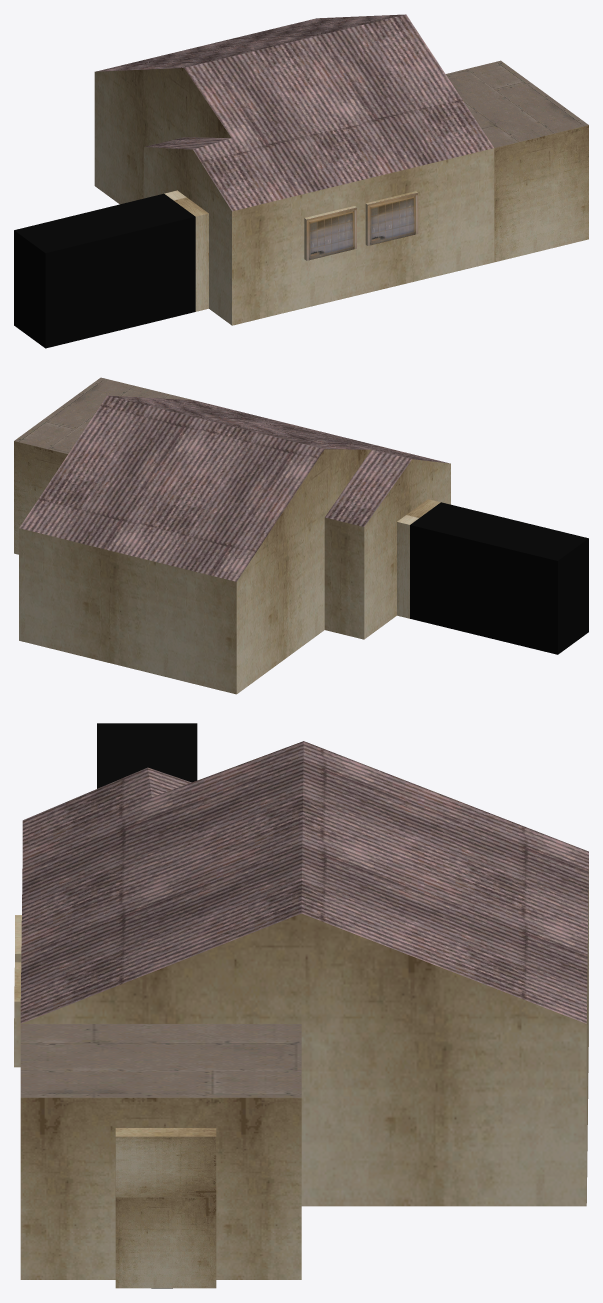
Rendered from airfieldhus1.obj.
3 renders of one model, top to bottom at view 1: azimuth 30°, elevation 25°; view 2: azimuth 150°, elevation 25°; view 3: azimuth 270°, elevation 25°, orthographic. The views are drawn at different scales.
Parts seen in each view (by area): view 1: airfieldhus1; view 2: airfieldhus1; view 3: airfieldhus1.
Boxes of the visible parts, x1,y1,x2,y2 form: airfieldhus1: [14, 14, 588, 348]; airfieldhus1: [14, 377, 588, 694]; airfieldhus1: [14, 723, 588, 1288].
Bounding box in the file's own units: 14.58 × 4.82 × 8.58.
Materials: 7 (7 with a texture image).
